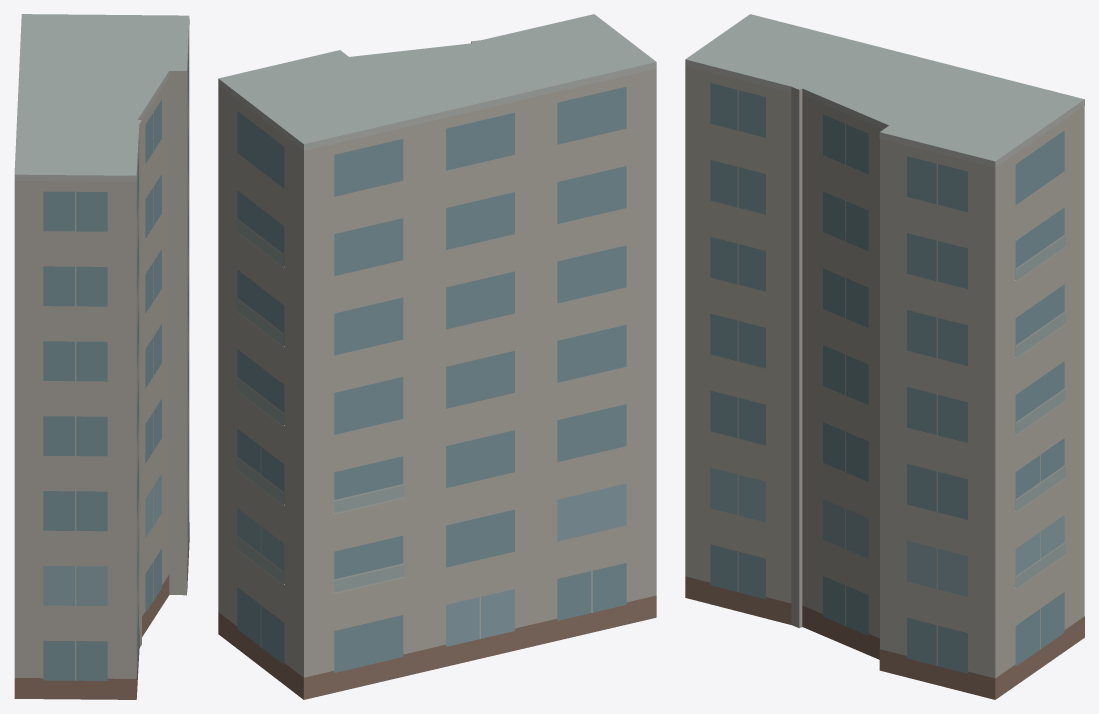
The model's file is survey-upis-32979954.glb.
3 renders of one model, left to right at view 1: azimuth 30°, elevation 25°; view 2: azimuth 150°, elevation 25°; view 3: azimuth 270°, elevation 25°, orthographic. The views are drawn at different scales.
Visible parts, largest first — view 1: survey-upis-32979954.tmp; view 2: survey-upis-32979954.tmp; view 3: survey-upis-32979954.tmp.
Boxes of the visible parts, x1,y1,x2,y2 form: survey-upis-32979954.tmp: (14, 14, 189, 699); survey-upis-32979954.tmp: (218, 14, 656, 699); survey-upis-32979954.tmp: (685, 14, 1084, 699).
Bounding box in the file's own units: 12.17 × 20.7 × 13.93.
